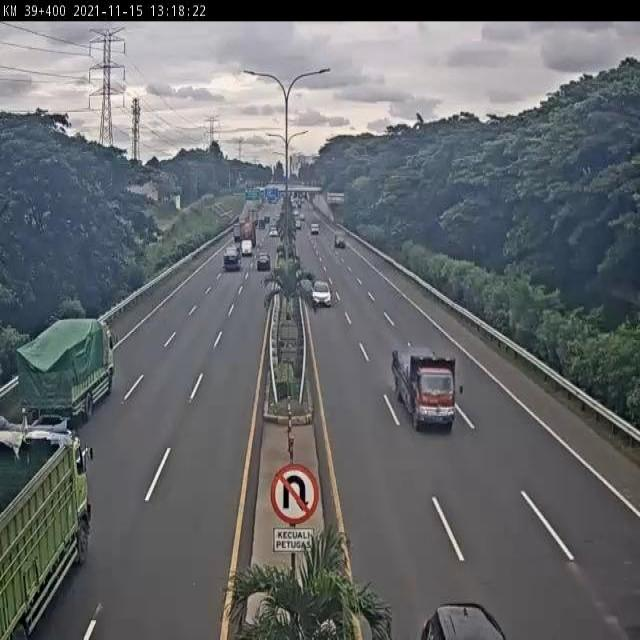Car: (405, 597, 525, 640), (303, 258, 344, 307), (223, 233, 240, 290), (258, 234, 274, 281)
Truck: (0, 428, 102, 640), (18, 314, 118, 413), (391, 312, 458, 454)
